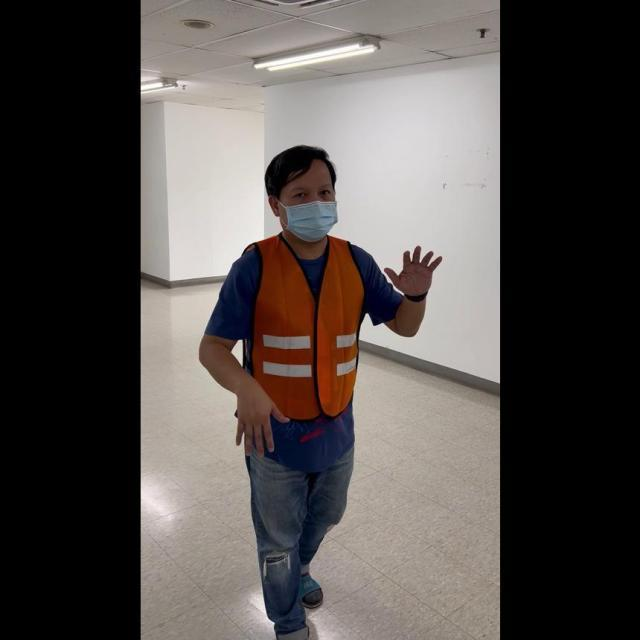bare_hand: (231, 383, 284, 456), (383, 241, 441, 298)
